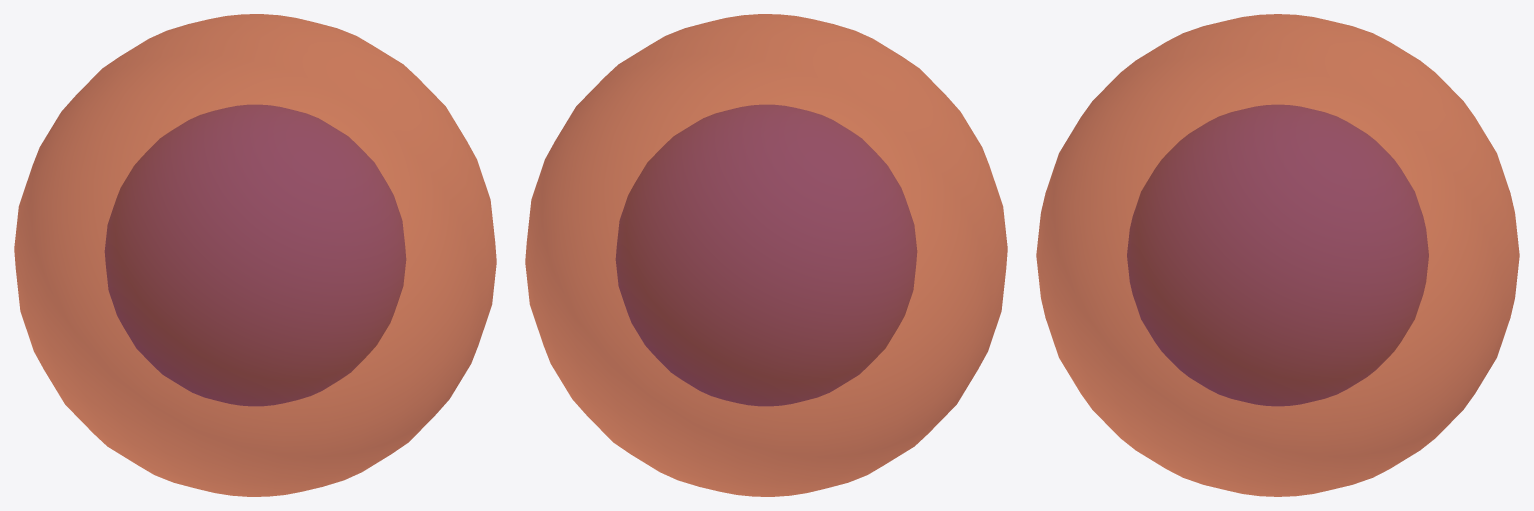
The model's file is SmoothSeed.fbx.
3 renders of one model, left to right at view 1: azimuth 30°, elevation 25°; view 2: azimuth 150°, elevation 25°; view 3: azimuth 270°, elevation 25°, orthographic.
Parts seen in each view (by area): view 1: Shell, InnerSeed; view 2: Shell, InnerSeed; view 3: Shell, InnerSeed.
Boxes of the visible parts, bbox=[...] form: Shell: bbox=[14, 14, 496, 496]; InnerSeed: bbox=[105, 105, 405, 405]; Shell: bbox=[525, 14, 1007, 496]; InnerSeed: bbox=[616, 105, 916, 405]; Shell: bbox=[1036, 14, 1519, 496]; InnerSeed: bbox=[1127, 105, 1428, 405].
Bounding box in the file's own units: 320 × 320 × 320.
